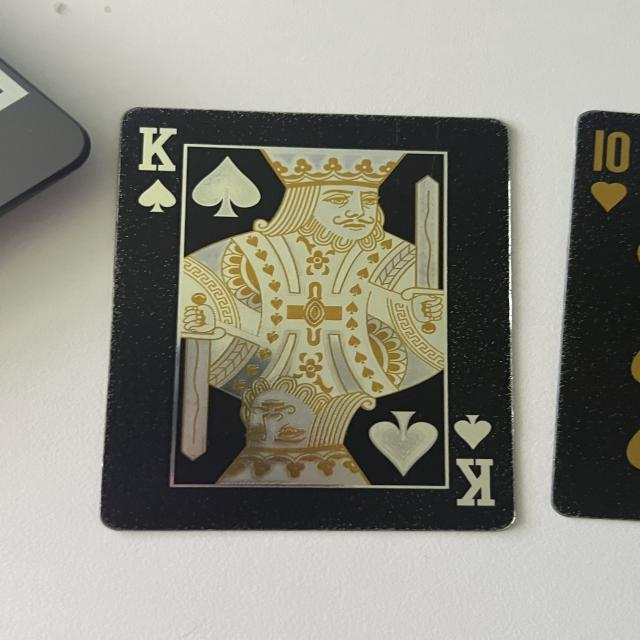10H: (586, 116, 637, 215)
KS: (439, 410, 506, 508), (131, 114, 185, 219)
